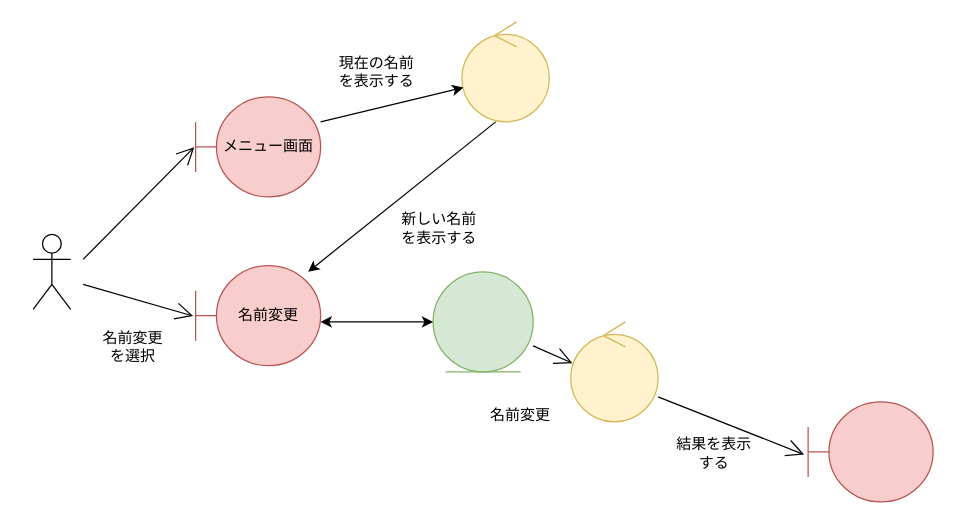
Some shapes in this 955 by 524 pixel diagram are drawn without their labels. Here are the shapes that lost their labels. From the top down, the box of each, then its label:
(32, 233, 71, 309): ユーザー
(432, 271, 533, 372): Robo Dog
